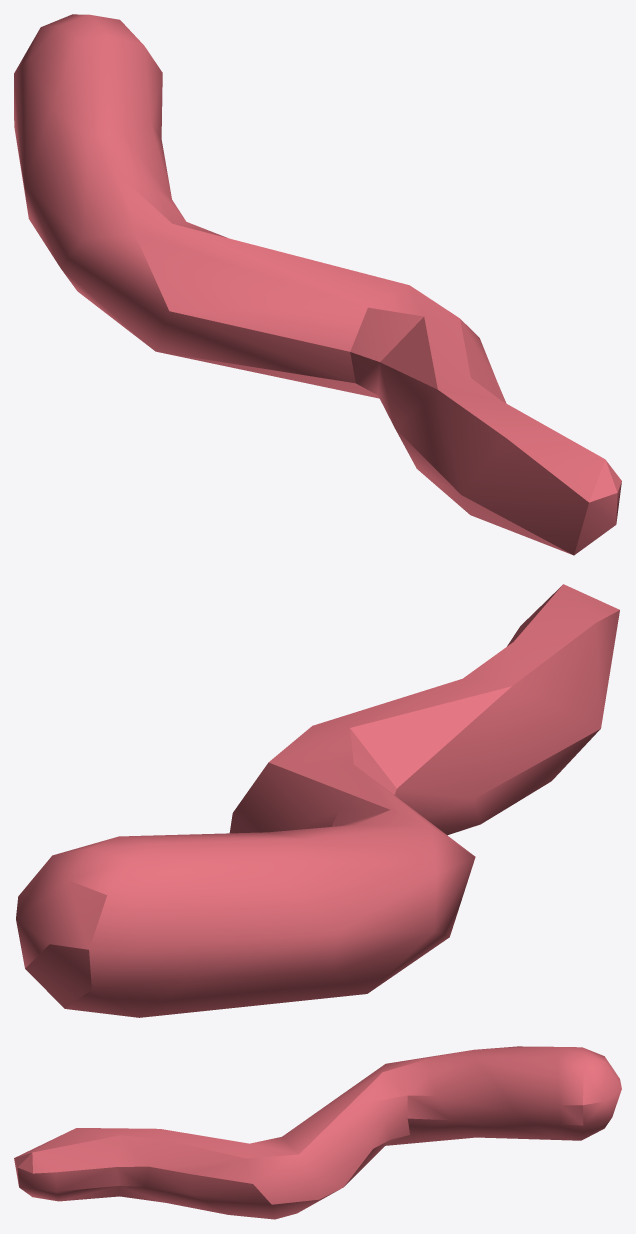
Rendered from fma4712_fj2711.glb.
3 views of the same model, one above another, from view 1: azimuth 30°, elevation 25°; view 2: azimuth 150°, elevation 25°; view 3: azimuth 270°, elevation 25° (orthographic). The views are drawn at different scales.
Parts seen in each view (by area): view 1: FMA4712_FJ2711; view 2: FMA4712_FJ2711; view 3: FMA4712_FJ2711.
Part boxes in pixels (x1,y1,x2,y2): FMA4712_FJ2711: [14, 14, 621, 555]; FMA4712_FJ2711: [16, 584, 619, 1017]; FMA4712_FJ2711: [14, 1046, 621, 1219].
Bounding box in the file's own units: 0.00177 × 0.00141 × 0.00551.
